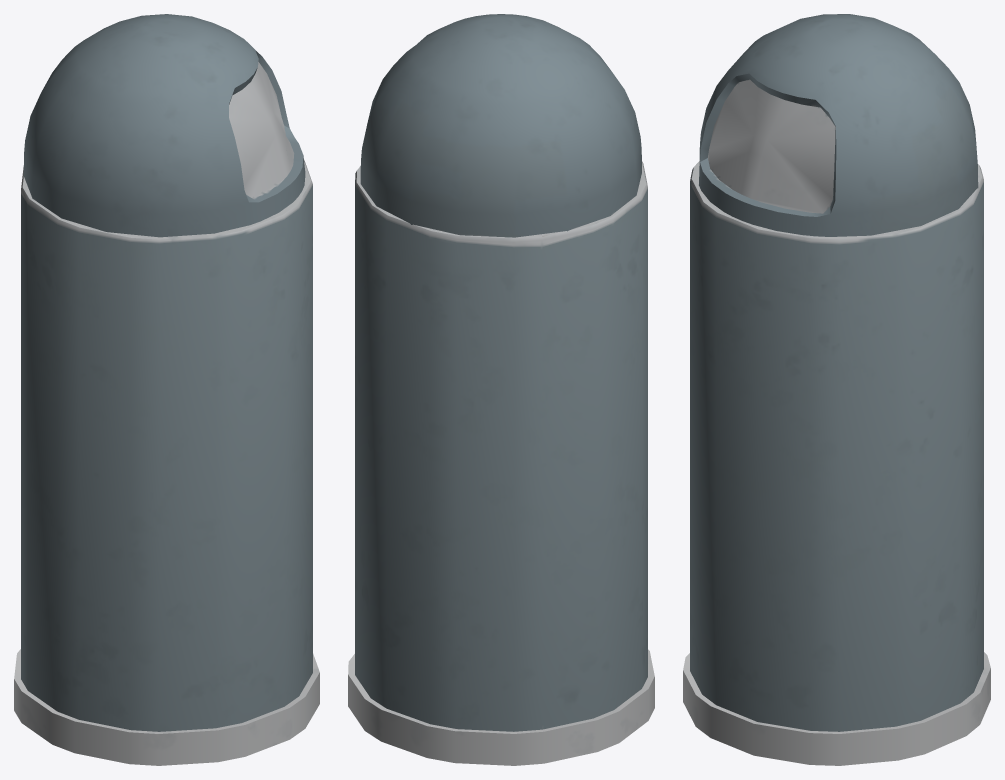
File: Trashcan00.fbx
3 renders of one model, left to right at view 1: azimuth 30°, elevation 25°; view 2: azimuth 150°, elevation 25°; view 3: azimuth 270°, elevation 25°, orthographic.
Visible parts, largest first — view 1: Trashcan; view 2: Trashcan; view 3: Trashcan.
Boxes of the visible parts, x1,y1,x2,y2 form: Trashcan: (14,14,319,765); Trashcan: (348,14,654,765); Trashcan: (683,14,990,765).
Bounding box in the file's own units: 264 × 642 × 266.
1 material, 1 textured.
